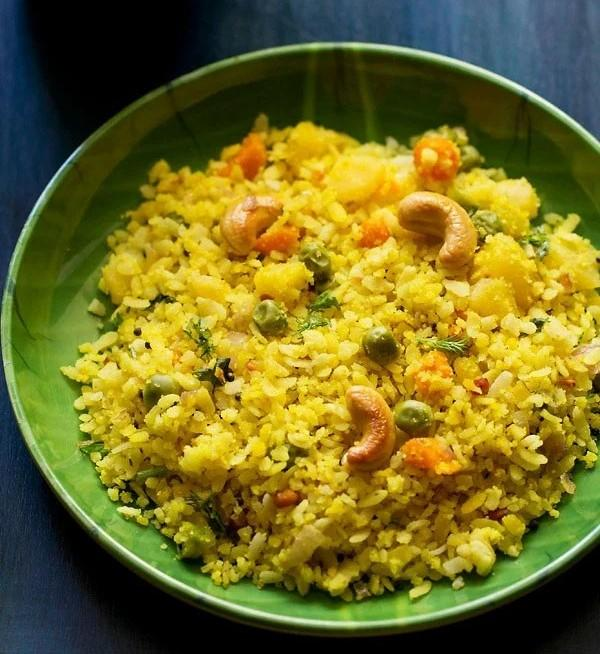Poha: (74, 107, 600, 602)
